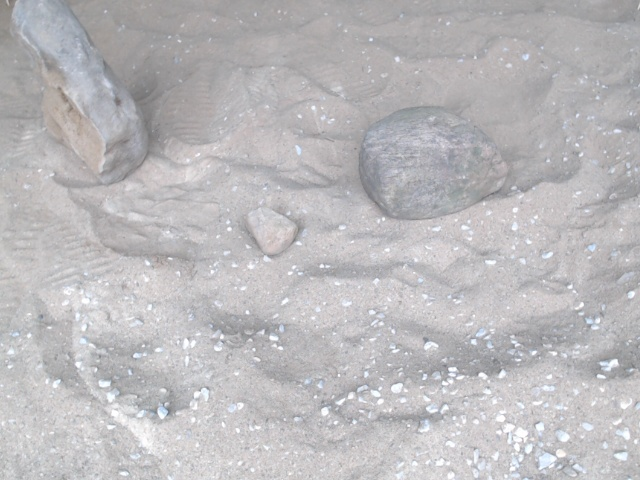rock: (5, 1, 154, 192), (354, 101, 514, 225), (242, 201, 303, 264)
